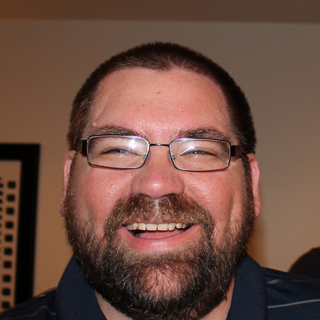eye: (175, 140, 232, 175), (95, 140, 142, 172)
